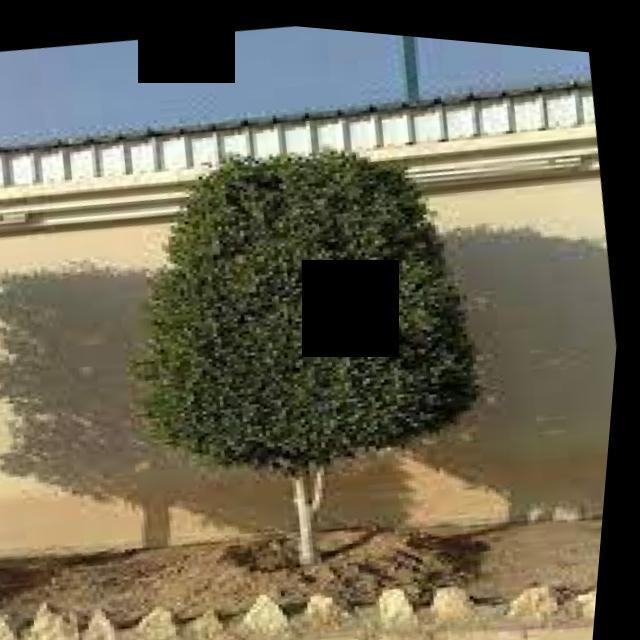tree: (93, 101, 524, 593)
